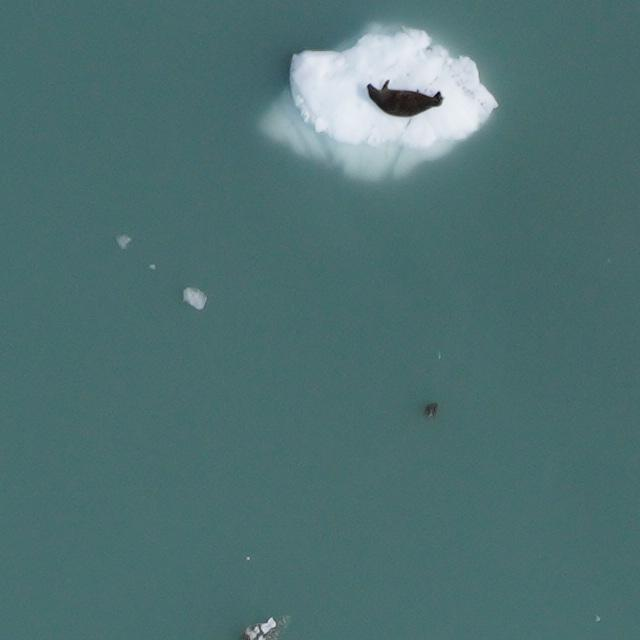seal: (359, 73, 446, 127)
